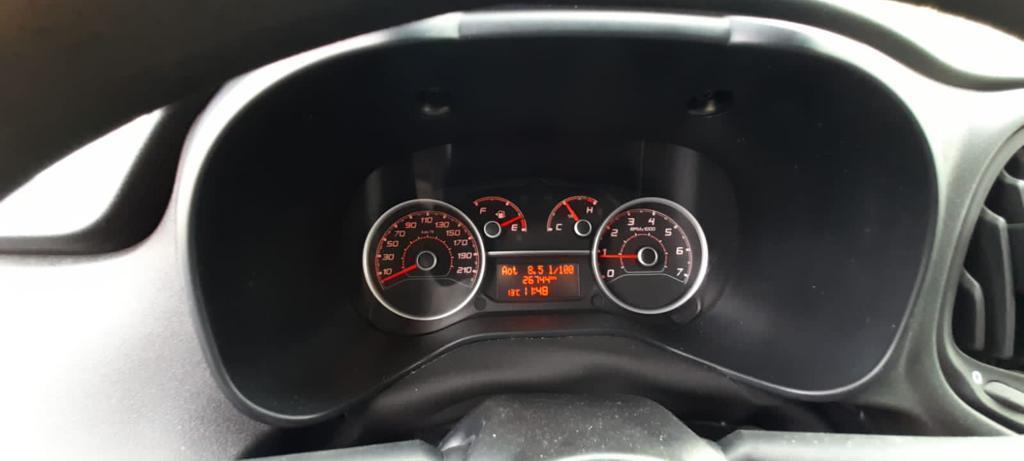,: (532, 271, 536, 274)
0: (563, 264, 568, 273), (568, 264, 573, 273)
1: (559, 264, 563, 274), (524, 286, 527, 296), (530, 286, 533, 296), (507, 288, 510, 296)
2: (522, 275, 528, 284)
3: (511, 288, 514, 296)
4: (535, 286, 542, 295), (544, 275, 550, 283), (539, 275, 544, 283)
5: (537, 264, 543, 274)
6: (528, 275, 533, 284)
7: (534, 275, 539, 283)
8: (527, 265, 533, 274), (542, 286, 548, 295)
X: (501, 265, 507, 275), (512, 265, 517, 275), (507, 267, 512, 275), (553, 266, 558, 274), (548, 264, 552, 274), (515, 288, 520, 296), (533, 287, 535, 294)
odometer: (494, 261, 582, 300)
